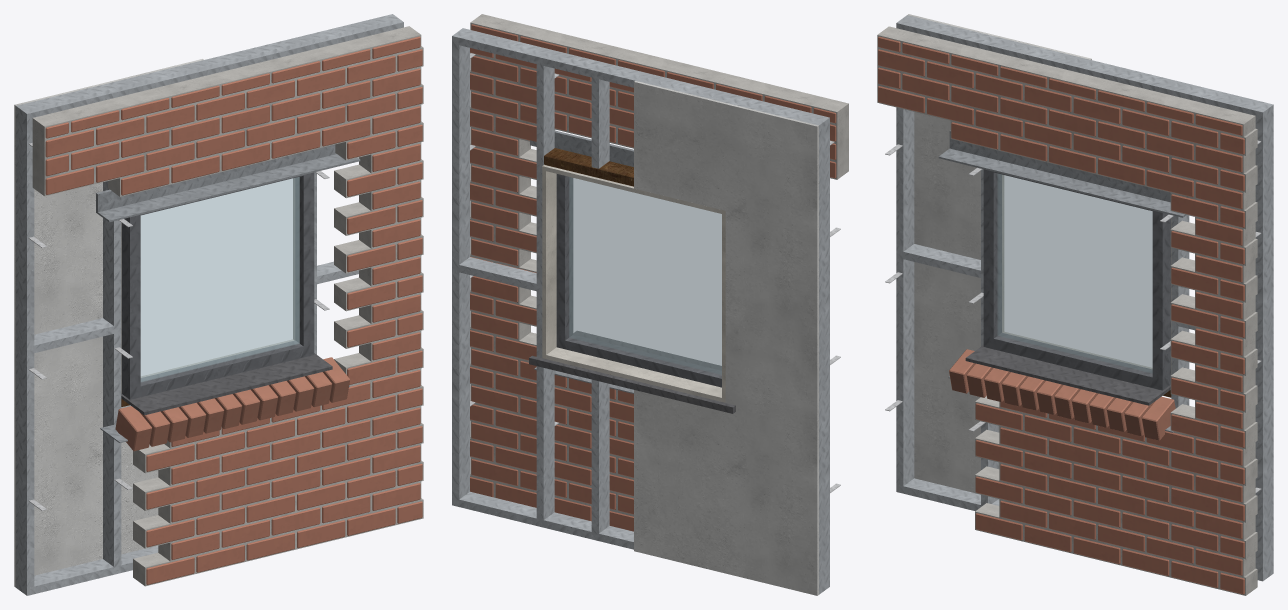
The model's file is detail.glb.
3 views of the same model, side by side, from view 1: azimuth 30°, elevation 25°; view 2: azimuth 150°, elevation 25°; view 3: azimuth 330°, elevation 25° (orthographic). The views are drawn at different scales.
Visible parts, largest first — view 1: External brick wall, L09_Internal_plasterboard_lining, L11_Window_glazing, Internal steel framing, Window frame, Angled brickwork sill, Head lintel + sill flashing, L12_Sill_flashing_and_internal_trim, Wall/cavity ties; view 2: L09_Internal_plasterboard_lining, External brick wall, Internal steel framing, L11_Window_glazing, Window frame, L10_Sill_and_head_jamb_lining, L08_Window_side_jamb, L12_Sill_flashing_and_internal_trim, L06_Timber_sill_and_head_frame, Head lintel + sill flashing; view 3: External brick wall, Internal steel framing, L11_Window_glazing, L09_Internal_plasterboard_lining, Window frame, Angled brickwork sill, Head lintel + sill flashing, L12_Sill_flashing_and_internal_trim, Wall/cavity ties.
Boxes of the visible parts, <box> form: External brick wall: <box>32,26,423,586</box>; L09_Internal_plasterboard_lining: <box>14,59,203,587</box>; L11_Window_glazing: <box>140,177,299,381</box>; Internal steel framing: <box>16,14,403,595</box>; Window frame: <box>121,172,314,399</box>; Angled brickwork sill: <box>115,357,350,451</box>; Head lintel + sill flashing: <box>96,144,360,442</box>; L12_Sill_flashing_and_internal_trim: <box>121,353,332,415</box>; Wall/cavity ties: <box>28,143,329,510</box>; L09_Internal_plasterboard_lining: <box>634,81,818,595</box>; External brick wall: <box>470,14,848,531</box>; Internal steel framing: <box>452,28,829,594</box>; L11_Window_glazing: <box>569,177,721,374</box>; Window frame: <box>556,174,721,387</box>; L10_Sill_and_head_jamb_lining: <box>546,166,721,401</box>; L08_Window_side_jamb: <box>542,164,725,402</box>; L12_Sill_flashing_and_internal_trim: <box>529,331,735,413</box>; L06_Timber_sill_and_head_frame: <box>544,148,633,186</box>; Head lintel + sill flashing: <box>530,130,633,393</box>; External brick wall: <box>877,26,1257,595</box>; Internal steel framing: <box>896,15,1273,581</box>; L11_Window_glazing: <box>997,173,1152,373</box>; L09_Internal_plasterboard_lining: <box>907,14,1091,492</box>; Window frame: <box>983,169,1170,390</box>; Angled brickwork sill: <box>949,349,1175,440</box>; Head lintel + sill flashing: <box>938,130,1186,432</box>; L12_Sill_flashing_and_internal_trim: <box>965,345,1170,405</box>; Wall/cavity ties: <box>885,140,1261,492</box>.
Bounding box in the file's own units: 1.81 × 2.21 × 0.362.
Materials: 13 (12 with a texture image).
